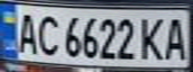2: (96, 14, 121, 61), (115, 15, 139, 61)
6: (60, 12, 84, 59), (78, 13, 100, 60)
A: (160, 14, 190, 61), (12, 9, 39, 55)
C: (33, 11, 60, 56)
K: (136, 14, 169, 61)
